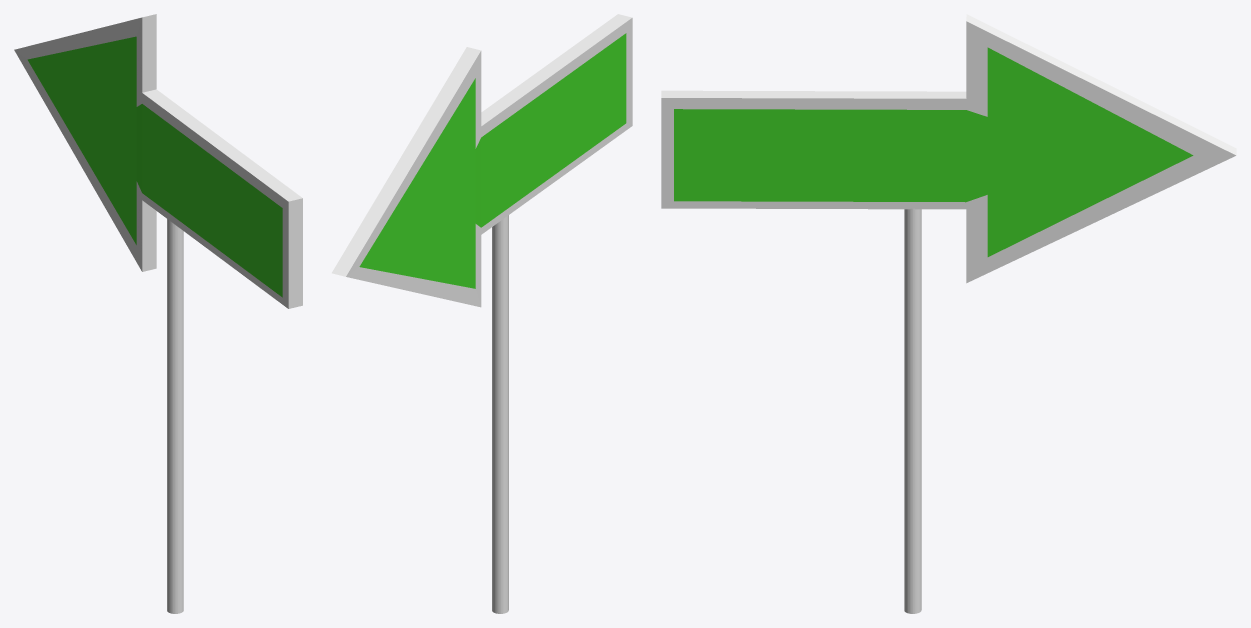
File: Arrow_sign_with_leg.fbx
3 views of the same model, side by side, from view 1: azimuth 30°, elevation 25°; view 2: azimuth 150°, elevation 25°; view 3: azimuth 270°, elevation 25° (orthographic). The views are drawn at different scales.
Visible parts, largest first — view 1: arrow sign; view 2: arrow sign; view 3: arrow sign.
Part boxes in pixels (box(x1,y1,x2,y2)): arrow sign: box(14, 14, 302, 613); arrow sign: box(332, 14, 632, 613); arrow sign: box(661, 14, 1236, 613).
Size of the model in its own units: 0.1244 by 3.57 by 3.14.
